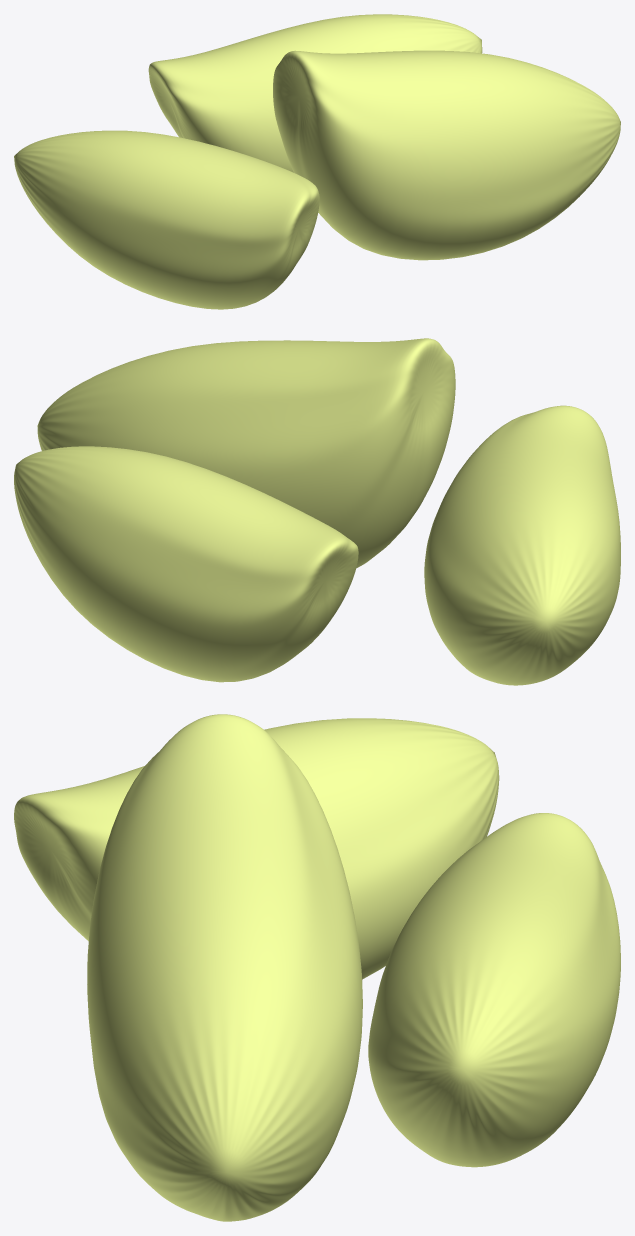
The model's file is garlicnew.fbx.
3 renders of one model, top to bottom at view 1: azimuth 30°, elevation 25°; view 2: azimuth 150°, elevation 25°; view 3: azimuth 270°, elevation 25°, orthographic. The views are drawn at different scales.
Parts seen in each view (by area): view 1: Cylinder.002; view 2: Cylinder.002; view 3: Cylinder.002.
Boxes of the visible parts, x1,y1,x2,y2 form: Cylinder.002: (14,14,620,309); Cylinder.002: (14,338,620,685); Cylinder.002: (14,714,620,1221).
Bounding box in the file's own units: 311 × 133 × 207.
